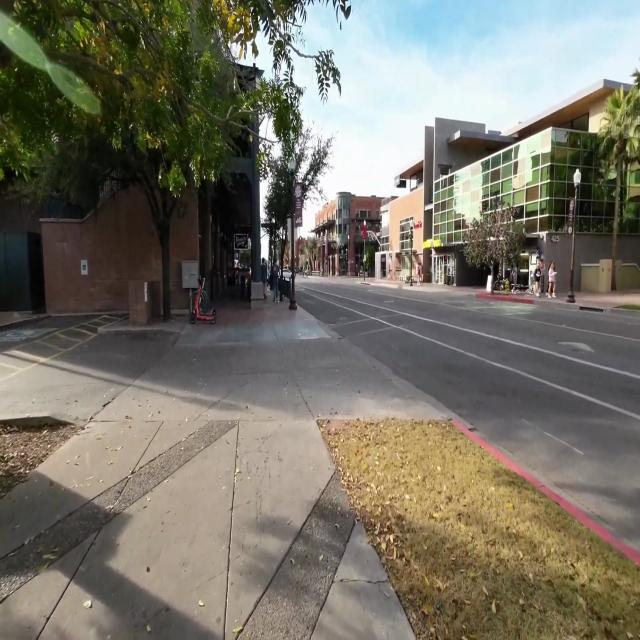road: (296, 277, 640, 568)
side walk: (0, 306, 454, 639)
